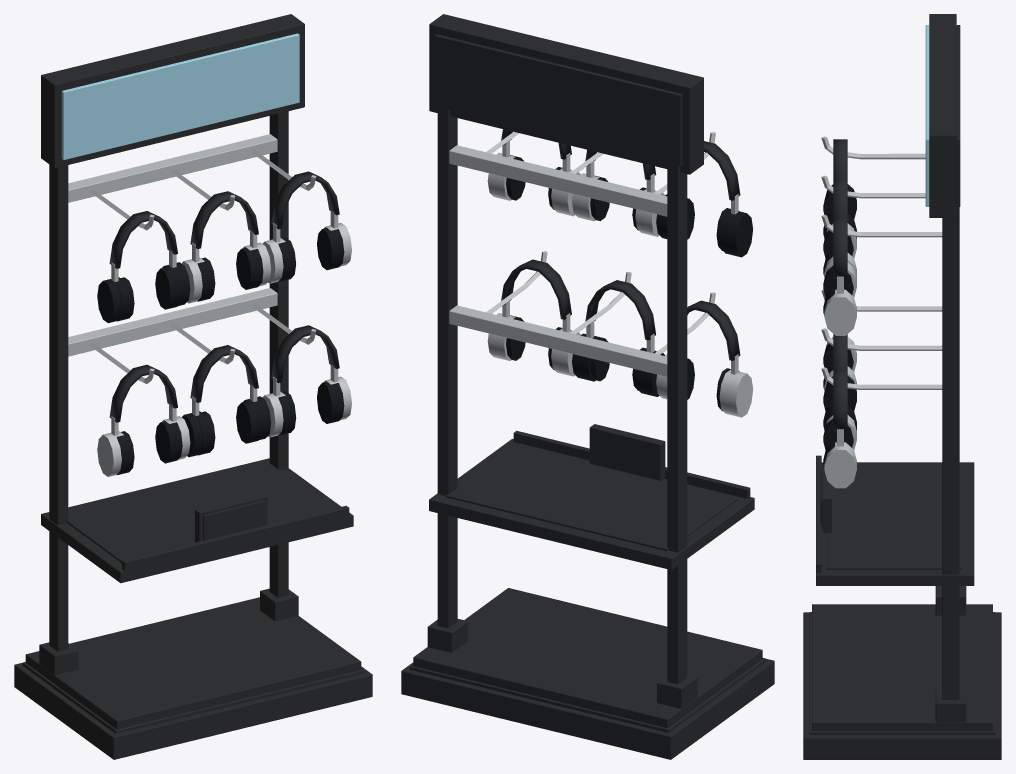
The picture shows the model from 3 angles, left to right: view 1: azimuth 30°, elevation 25°; view 2: azimuth 150°, elevation 25°; view 3: azimuth 270°, elevation 25°; orthographic projection. The views are drawn at different scales.
Visible parts, largest first — view 1: Acoustic rack, Six over-ear headsets, Suspended hooks; view 2: Acoustic rack, Six over-ear headsets, Suspended hooks; view 3: Acoustic rack, Six over-ear headsets, Suspended hooks.
Part boxes in pixels (<box>): Acoustic rack: <box>14,14,372,759</box>; Six over-ear headsets: <box>97,171,351,476</box>; Suspended hooks: <box>90,149,316,383</box>; Acoustic rack: <box>401,14,774,759</box>; Six over-ear headsets: <box>487,129,753,417</box>; Suspended hooks: <box>486,132,715,354</box>; Acoustic rack: <box>803,14,1001,759</box>; Six over-ear headsets: <box>823,139,856,488</box>; Suspended hooks: <box>821,136,942,389</box>.
Bounding box in the file's own units: 1.11 × 2.6 × 0.7429.
Materials: 1 (1 with a texture image).
